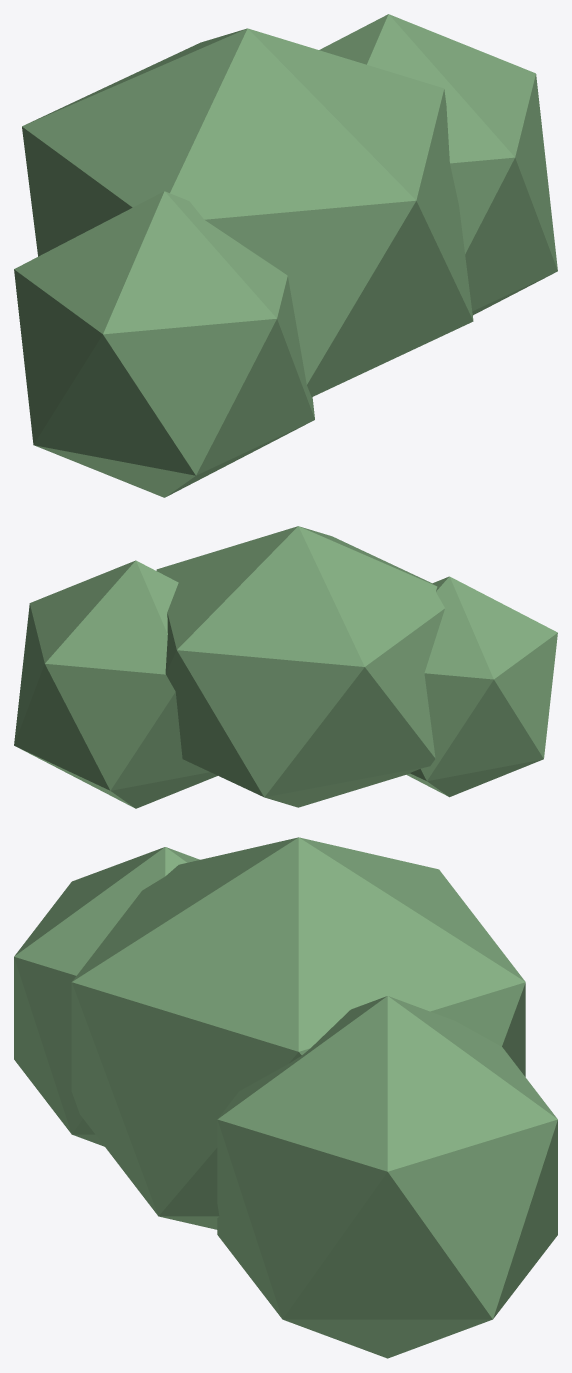
The model's file is Cali_Kucuk.glb.
The picture shows the model from 3 angles, top to bottom: view 1: azimuth 30°, elevation 25°; view 2: azimuth 150°, elevation 25°; view 3: azimuth 270°, elevation 25°; orthographic projection. The views are drawn at different scales.
Visible parts, largest first — view 1: Cali_Kucuk; view 2: Cali_Kucuk; view 3: Cali_Kucuk.
Boxes of the visible parts, <box> form: Cali_Kucuk: <box>14,14,557,497</box>; Cali_Kucuk: <box>14,526,557,808</box>; Cali_Kucuk: <box>14,837,557,1358</box>.
Size of the model in its own units: 0.9962 by 0.636 by 0.7338.
